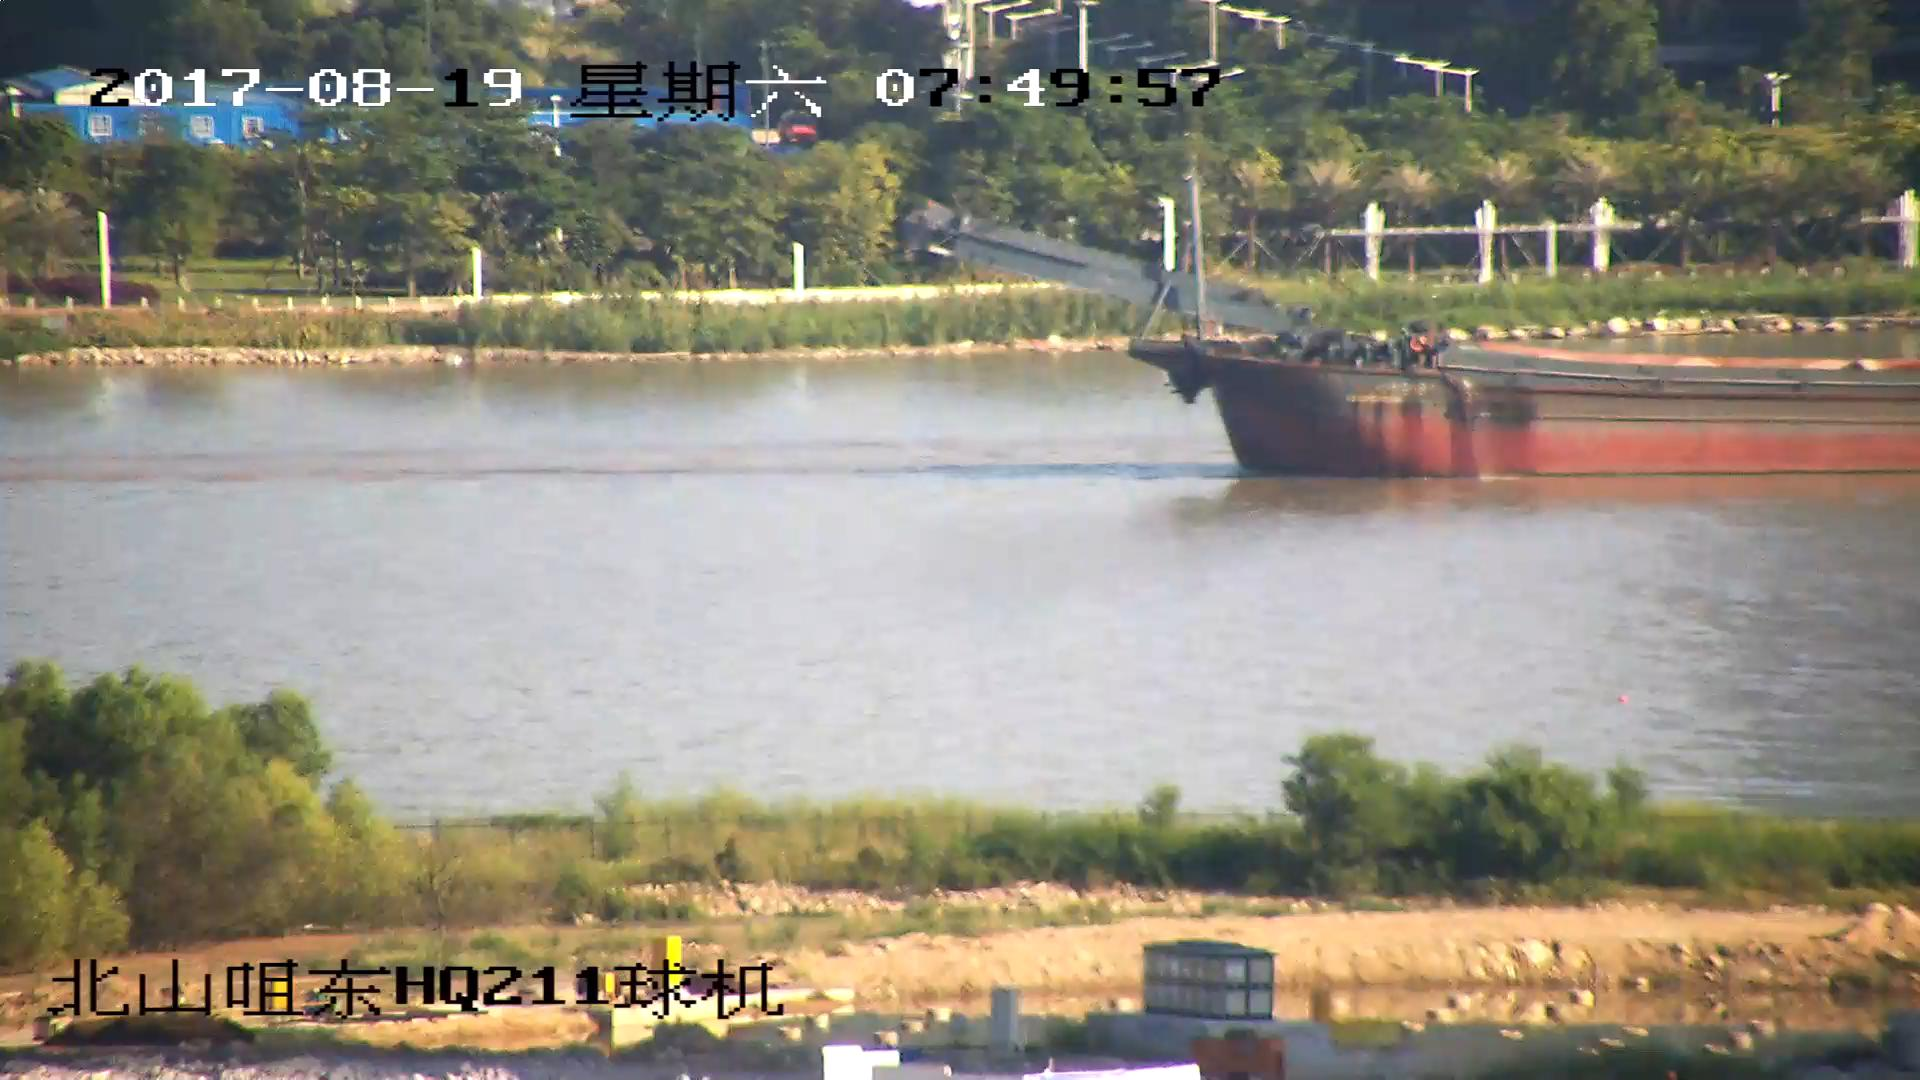bulk cargo carrier: (918, 180, 1920, 481)
